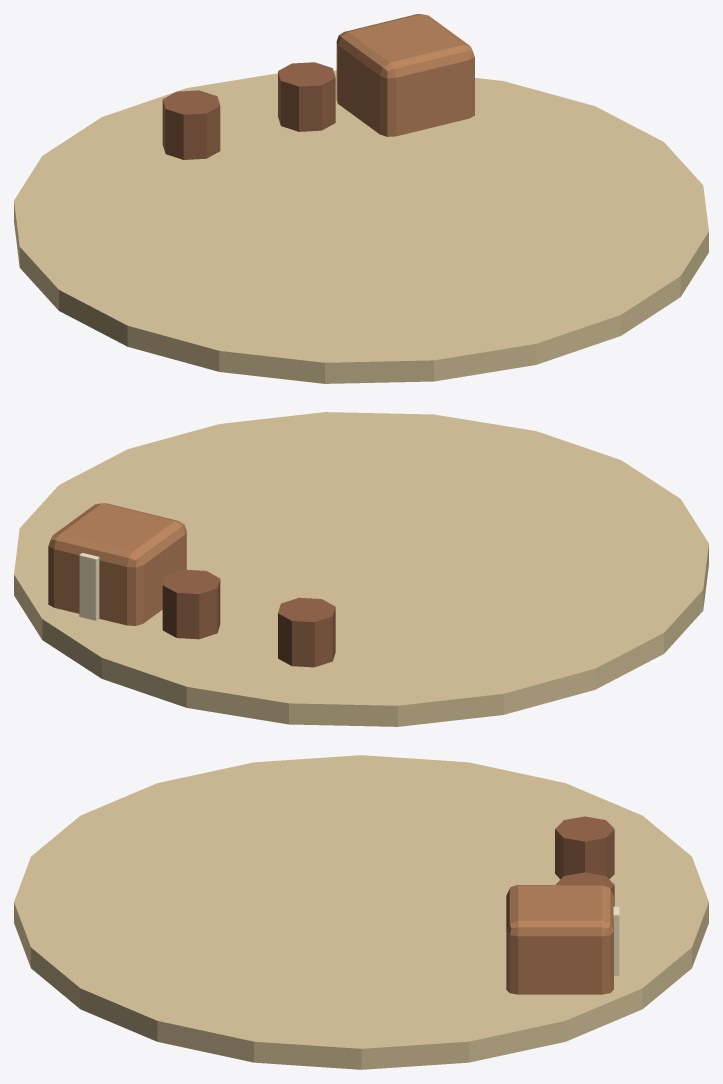
Rendered from camp-base.glb.
The picture shows the model from 3 angles, top to bottom: view 1: azimuth 30°, elevation 25°; view 2: azimuth 150°, elevation 25°; view 3: azimuth 270°, elevation 25°; orthographic projection.
Visible parts, largest first — view 1: camp; view 2: camp; view 3: camp.
Boxes of the visible parts, x1,y1,x2,y2 form: camp: (14, 14, 708, 383); camp: (14, 412, 708, 726); camp: (14, 755, 708, 1069).
Bounding box in the file's own units: 4.2 × 0.6 × 4.2.
